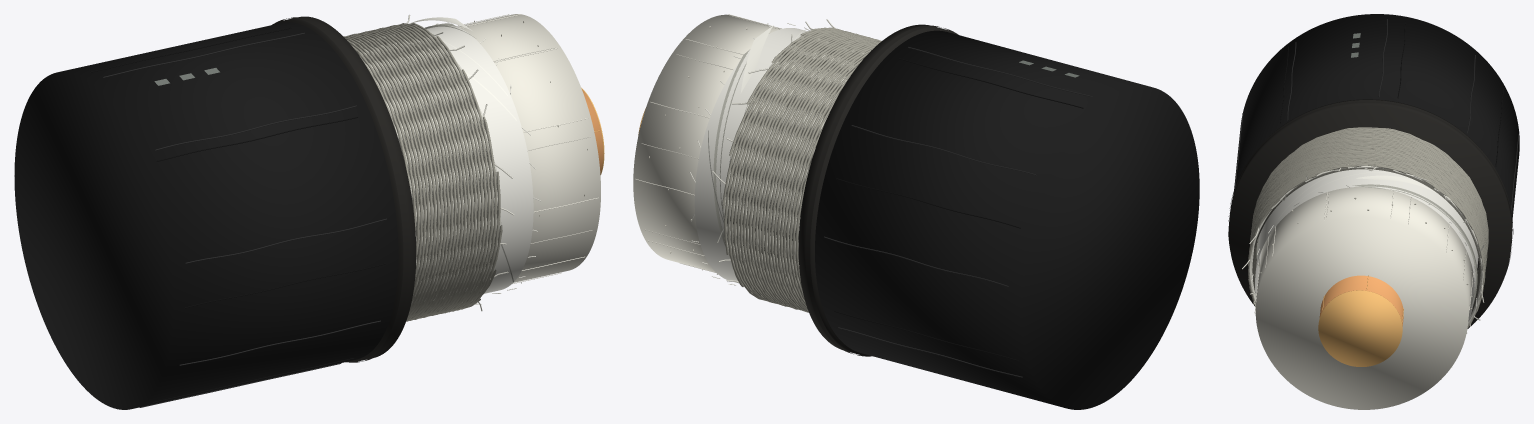
Rendered from rf-lmr600-macro.glb.
The picture shows the model from 3 angles, left to right: view 1: azimuth 30°, elevation 25°; view 2: azimuth 150°, elevation 25°; view 3: azimuth 270°, elevation 25°; orthographic projection. The views are drawn at different scales.
Visible parts, largest first — view 1: macro jacket body, macro dielectric exposed core, continuous foil sleeve under braid, thick jacket cut wall, shadow seen through braid windows, rounded jacket cut lip, macro braid shadow carrier 06 strand 1, macro braid shadow carrier 05 strand 1, macro braid shadow carrier 07 strand 1, macro braid shadow carrier 04 strand 1, macro braid shadow carrier 03 strand 1, macro braid shadow carrier 08 strand 1 (+18 smaller); view 2: macro jacket body, macro dielectric exposed core, continuous foil sleeve under braid, thick jacket cut wall, rounded jacket cut lip, shadow seen through braid windows, macro braid shadow carrier 01 strand 1, macro braid shadow carrier 16 strand 1, macro braid shadow carrier 15 strand 1, macro braid shadow carrier 02 strand 1, macro braid shadow carrier 14 strand 1, macro braid shadow carrier 13 strand 1 (+16 smaller); view 3: macro dielectric exposed core, macro jacket body, thick jacket cut wall, polished conductor cut face glow, continuous foil sleeve under braid, polished solid center conductor, shadow seen through braid windows, rounded jacket cut lip, raised foil lap seam, macro braid shadow carrier 03 strand 3, macro braid shadow carrier 02 strand 3, macro braid shadow carrier 11 strand 3 (+35 smaller).
Part boxes in pixels (<box>): macro jacket body: <box>14,22,398,409</box>; macro dielectric exposed core: <box>457,14,600,282</box>; continuous foil sleeve under braid: <box>427,25,533,293</box>; thick jacket cut wall: <box>272,16,416,362</box>; shadow seen through braid windows: <box>363,40,498,297</box>; rounded jacket cut lip: <box>276,17,408,362</box>; macro braid shadow carrier 06 strand 1: <box>356,23,486,308</box>; macro braid shadow carrier 05 strand 1: <box>349,23,483,314</box>; macro braid shadow carrier 07 strand 1: <box>353,33,489,313</box>; macro braid shadow carrier 04 strand 1: <box>343,24,479,314</box>; macro braid shadow carrier 03 strand 1: <box>346,25,476,310</box>; macro braid shadow carrier 08 strand 1: <box>357,33,493,315</box>; macro jacket body: <box>815,30,1199,409</box>; macro dielectric exposed core: <box>633,14,780,272</box>; continuous foil sleeve under braid: <box>694,28,807,283</box>; thick jacket cut wall: <box>798,24,958,356</box>; rounded jacket cut lip: <box>805,25,956,356</box>; shadow seen through braid windows: <box>726,52,840,277</box>; macro braid shadow carrier 01 strand 1: <box>727,32,866,311</box>; macro braid shadow carrier 16 strand 1: <box>730,33,859,308</box>; macro braid shadow carrier 15 strand 1: <box>734,35,861,310</box>; macro braid shadow carrier 02 strand 1: <box>725,32,872,308</box>; macro braid shadow carrier 14 strand 1: <box>736,35,865,306</box>; macro braid shadow carrier 13 strand 1: <box>739,35,858,306</box>; macro dielectric exposed core: <box>1255,187,1472,409</box>; macro jacket body: <box>1234,14,1519,221</box>; thick jacket cut wall: <box>1228,99,1512,328</box>; polished conductor cut face glow: <box>1318,290,1402,366</box>; continuous foil sleeve under braid: <box>1255,169,1478,321</box>; polished solid center conductor: <box>1319,275,1403,325</box>; shadow seen through braid windows: <box>1252,168,1481,314</box>; rounded jacket cut lip: <box>1228,100,1513,274</box>; raised foil lap seam: <box>1256,184,1477,308</box>; macro braid shadow carrier 03 strand 3: <box>1251,139,1486,266</box>; macro braid shadow carrier 02 strand 3: <box>1254,138,1485,307</box>; macro braid shadow carrier 11 strand 3: <box>1248,128,1487,305</box>.
Bounding box in the file's own units: 6.54 × 4.12 × 4.21.
